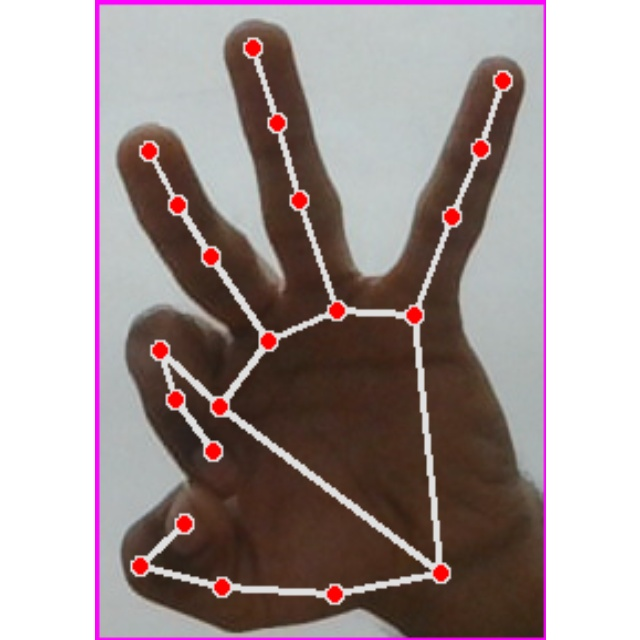F: (95, 0, 546, 640)
